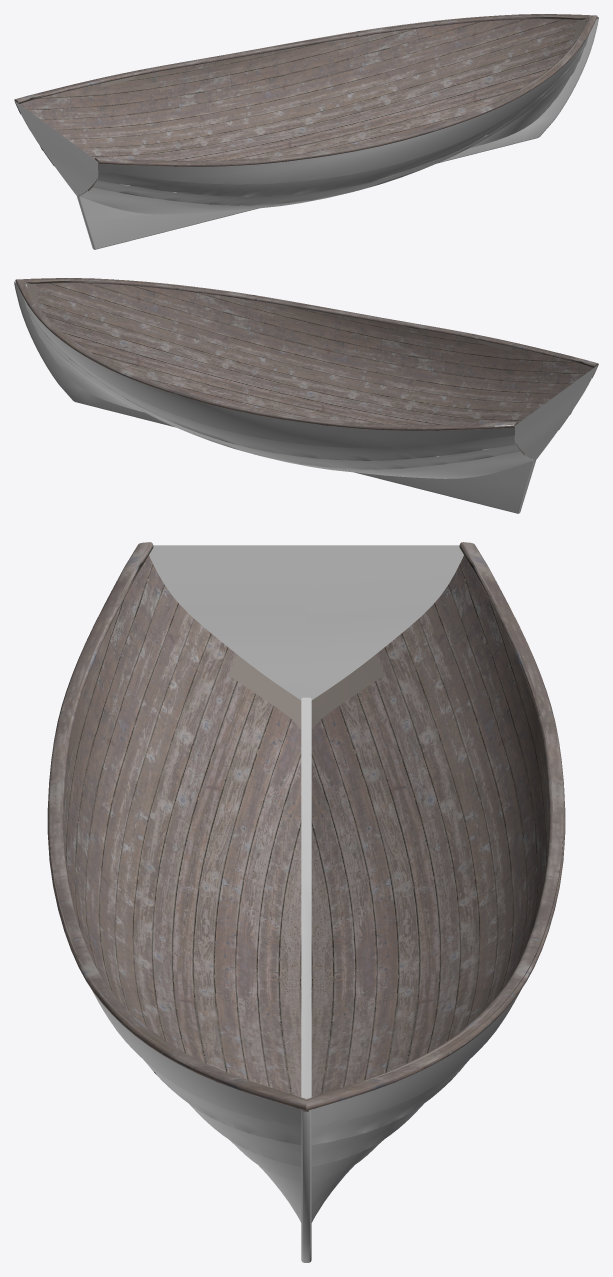
File: NewportShoreBoat_Collider.fbx
3 views of the same model, one above another, from view 1: azimuth 30°, elevation 25°; view 2: azimuth 150°, elevation 25°; view 3: azimuth 270°, elevation 25° (orthographic). The views are drawn at different scales.
Visible parts, largest first — view 1: Hull, Hull Handrail, Hull Frame; view 2: Hull, Hull Handrail, Hull Frame; view 3: Hull, Hull Handrail, Hull Frame.
Boxes of the visible parts, x1,y1,x2,y2 form: Hull: [14, 15, 590, 214]; Hull Handrail: [14, 14, 597, 166]; Hull Frame: [77, 17, 598, 249]; Hull: [22, 279, 598, 478]; Hull Handrail: [15, 278, 598, 430]; Hull Frame: [14, 281, 535, 513]; Hull: [49, 545, 563, 1222]; Hull Handrail: [47, 542, 565, 1110]; Hull Frame: [301, 697, 311, 1262].
Bounding box in the file's own units: 365 × 83.12 × 151.
Materials: 2 (1 with a texture image).
